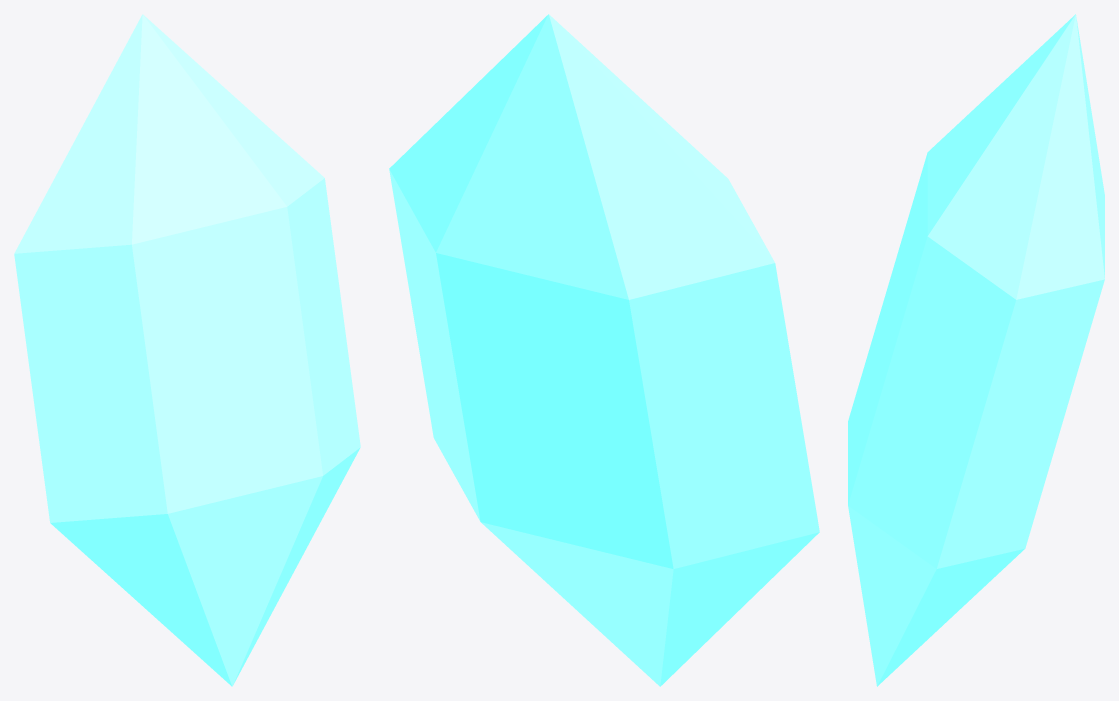
The model's file is cristal.glb.
3 views of the same model, side by side, from view 1: azimuth 30°, elevation 25°; view 2: azimuth 150°, elevation 25°; view 3: azimuth 270°, elevation 25° (orthographic). The views are drawn at different scales.
Parts seen in each view (by area): view 1: cristal; view 2: cristal; view 3: cristal.
Boxes of the visible parts, x1,y1,x2,y2 form: cristal: [14, 14, 360, 686]; cristal: [389, 14, 819, 686]; cristal: [848, 14, 1104, 686].
Bounding box in the file's own units: 0.03 × 0.056 × 0.0194.
